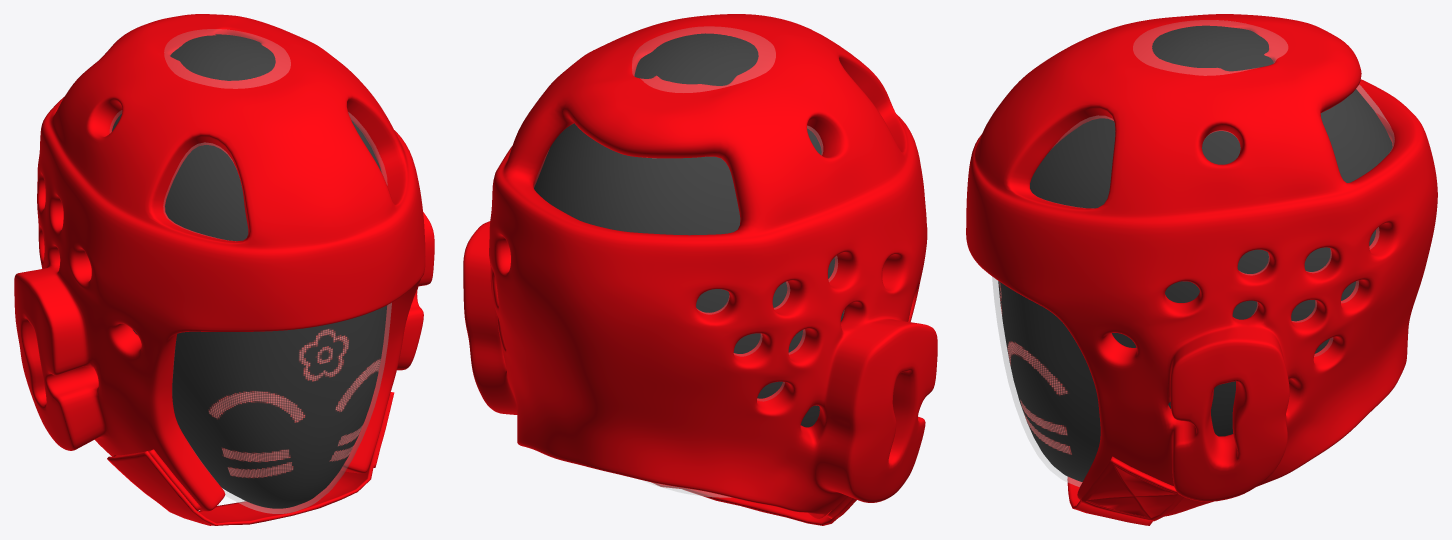
File: satisfied_guy.glb
The picture shows the model from 3 angles, left to right: view 1: azimuth 30°, elevation 25°; view 2: azimuth 150°, elevation 25°; view 3: azimuth 270°, elevation 25°; orthographic projection. The views are drawn at different scales.
Parts seen in each view (by area): view 1: helmet, glass, angry_sphere, chinstrap; view 2: helmet, glass, angry_sphere, chinstrap; view 3: helmet, glass, angry_sphere, chinstrap.
Part boxes in pixels (x1,y1,x2,y2): helmet: [14, 14, 434, 511]; glass: [110, 29, 391, 513]; angry_sphere: [112, 34, 387, 508]; chinstrap: [107, 392, 394, 525]; helmet: [463, 14, 937, 518]; glass: [534, 26, 843, 497]; angry_sphere: [534, 33, 843, 427]; chinstrap: [652, 482, 856, 525]; helmet: [966, 14, 1437, 516]; glass: [992, 20, 1394, 486]; angry_sphere: [998, 25, 1392, 481]; chinstrap: [1067, 456, 1183, 525].
Bounding box in the file's own units: 0.5524 × 0.595 × 0.5547.
Materials: 3 (1 with a texture image).
